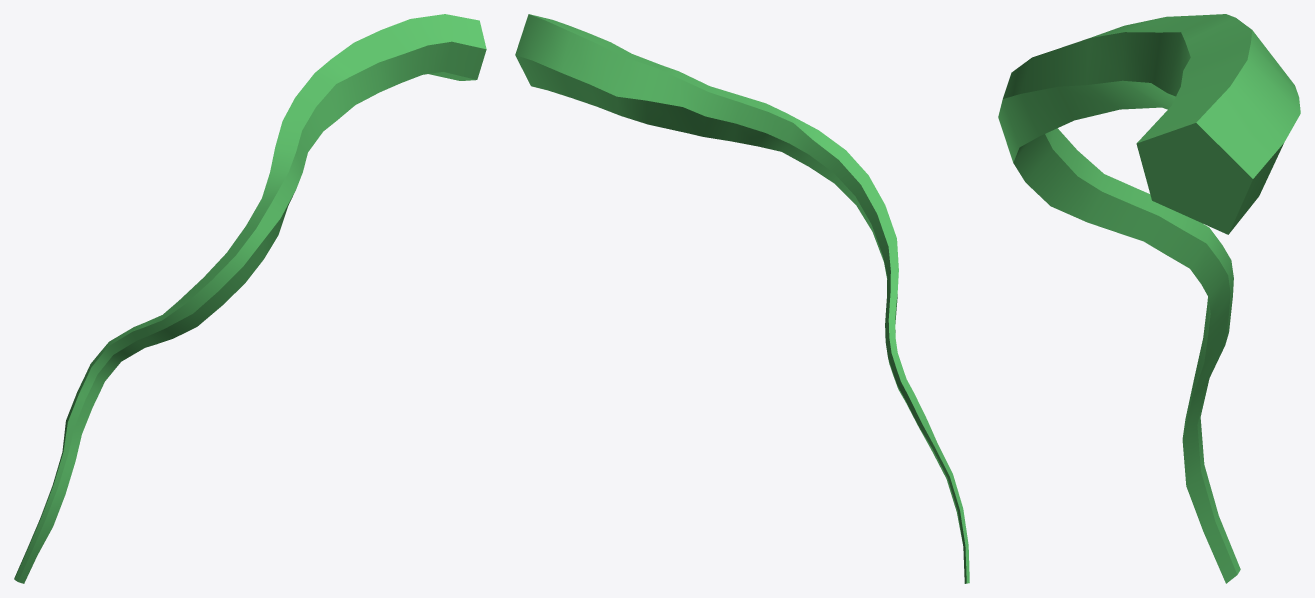
File: collider_jungle_trunk_ground_D_branch_A.fbx
3 renders of one model, left to right at view 1: azimuth 30°, elevation 25°; view 2: azimuth 150°, elevation 25°; view 3: azimuth 270°, elevation 25°, orthographic. The views are drawn at different scales.
Visible parts, largest first — view 1: collider_jungle_trunk_ground_D_branch_A; view 2: collider_jungle_trunk_ground_D_branch_A; view 3: collider_jungle_trunk_ground_D_branch_A.
Boxes of the visible parts, left/top/right/bottom form: collider_jungle_trunk_ground_D_branch_A: left=14, top=14, right=486, bottom=583; collider_jungle_trunk_ground_D_branch_A: left=515, top=14, right=969, bottom=583; collider_jungle_trunk_ground_D_branch_A: left=998, top=14, right=1300, bottom=583.
Bounding box in the file's own units: 193 × 189 × 58.26.
